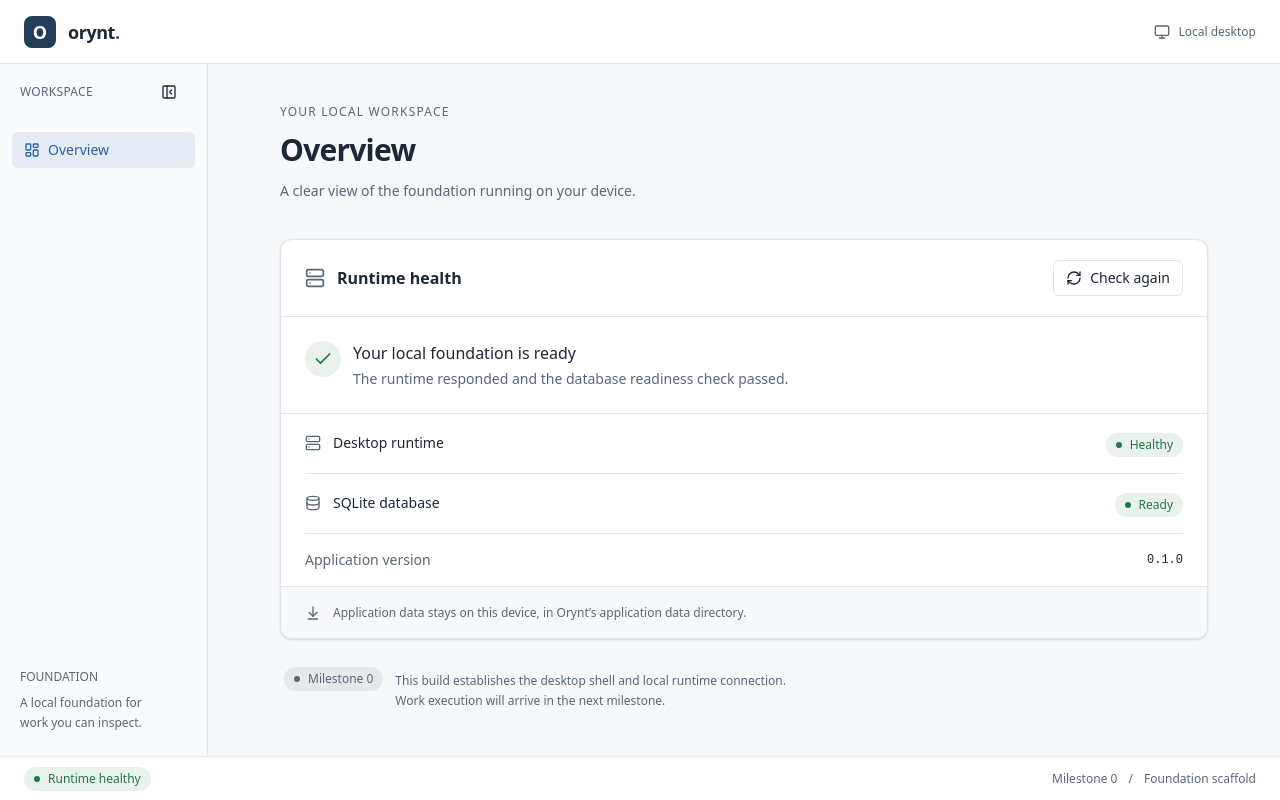
Test: foundation overview › removes a previously healthy display when the next check fails
Expected: the heading "Your local foundation is ready" is shown, x1=353 y1=342 x2=576 y2=364
Step 1. Click the button "Check again" → (1118, 278), box x1=1053 y1=260 x2=1183 y2=296
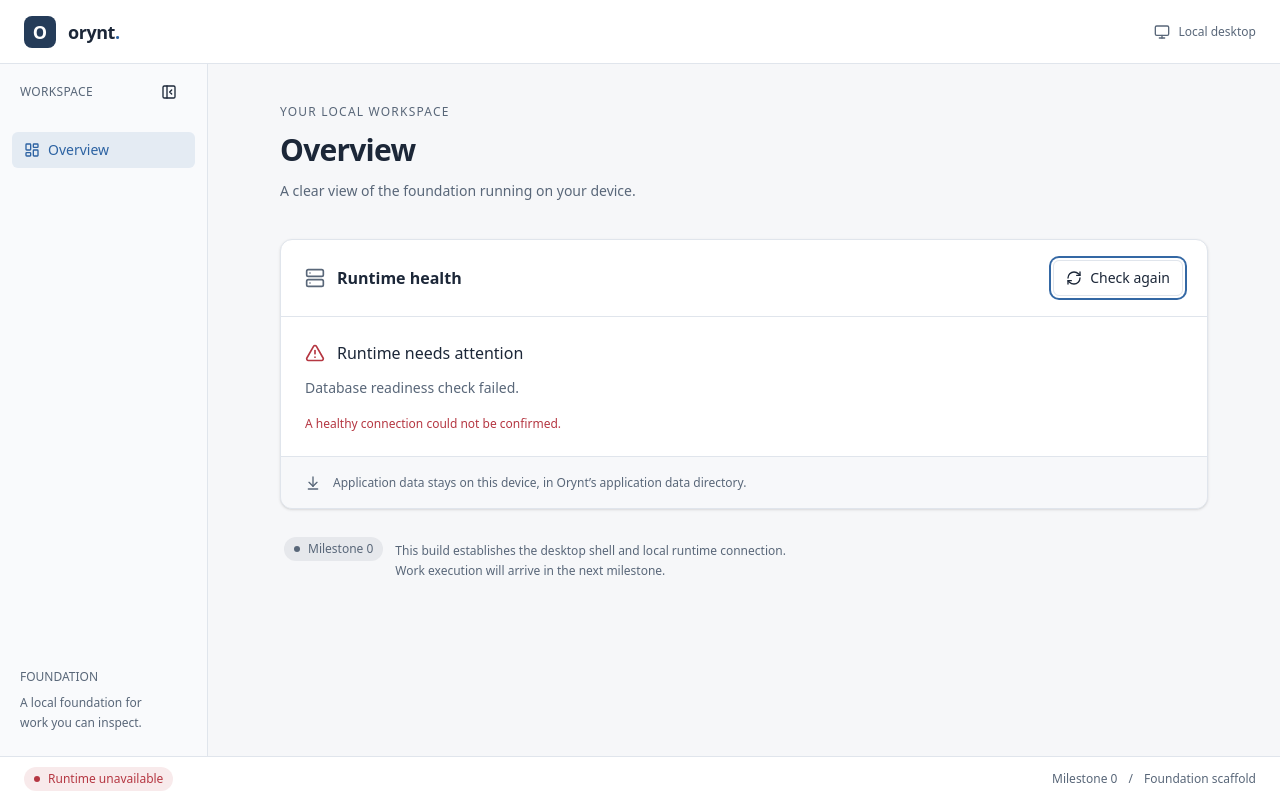
Expected: the message is shown, x1=305 y1=342 x2=561 y2=432
Expected: the heading "Your local foundation is ready" is gone
Expected: the text "Runtime unavailable" is shown, x1=24 y1=766 x2=173 y2=790
